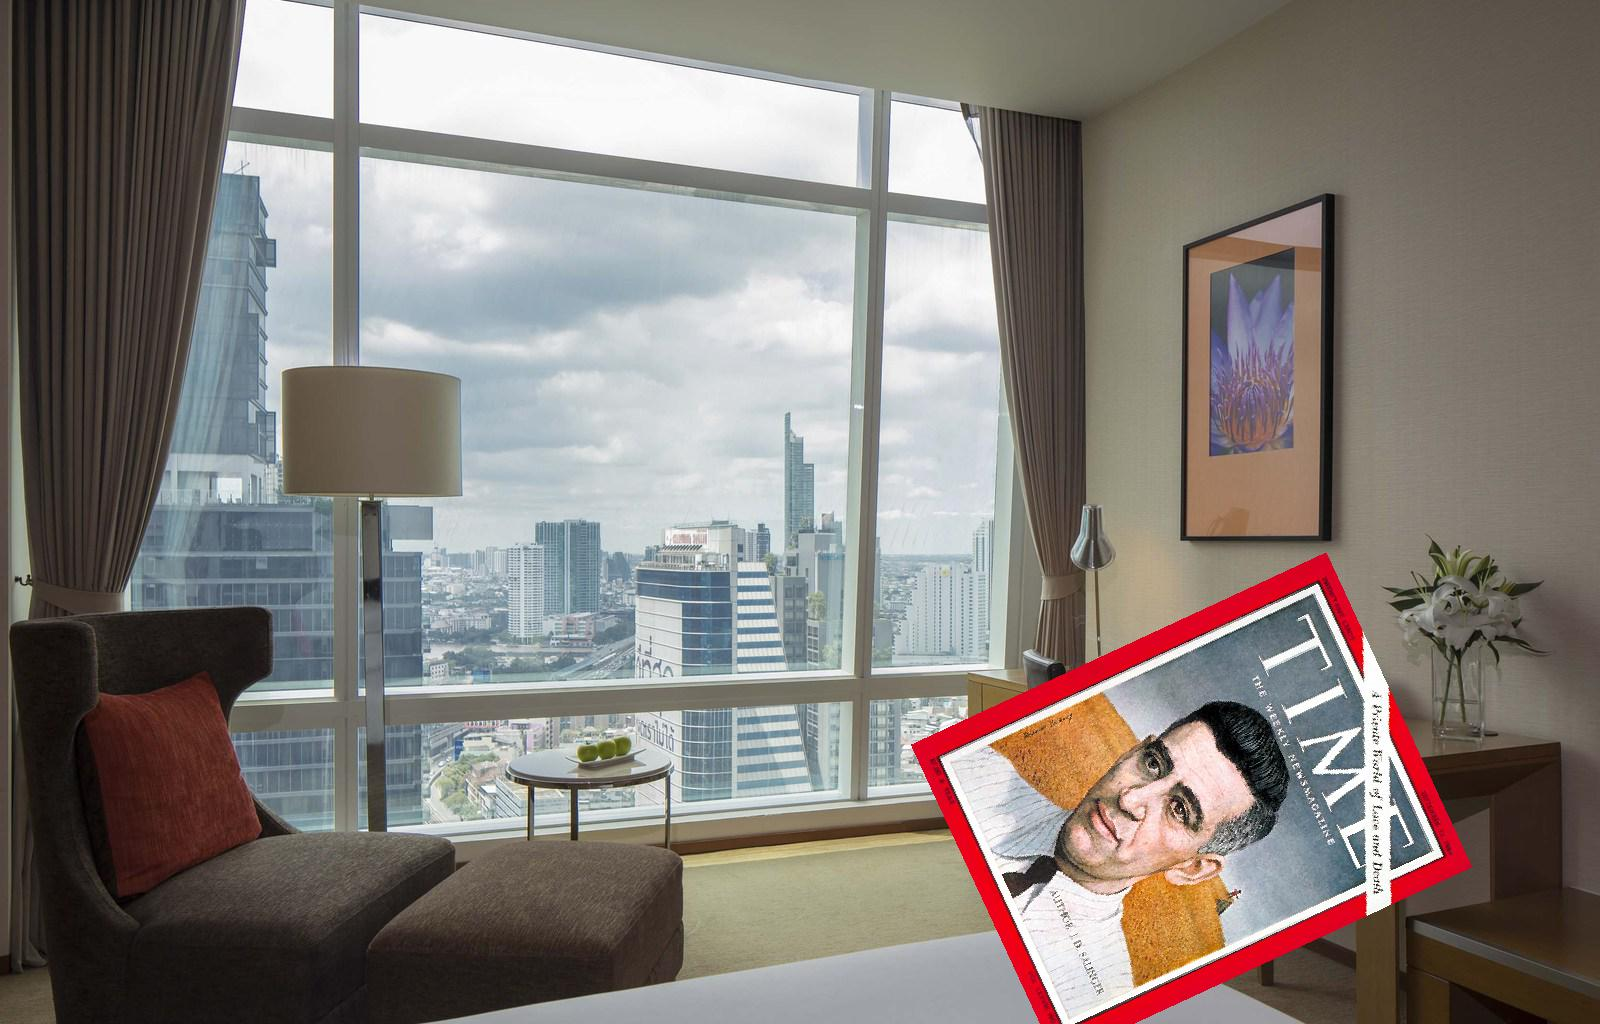times: (910, 555, 1476, 1024)
